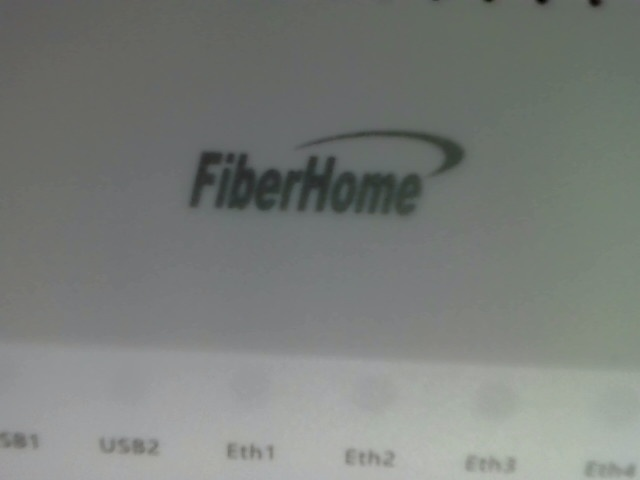AI_FiberHome: (170, 113, 471, 233)
